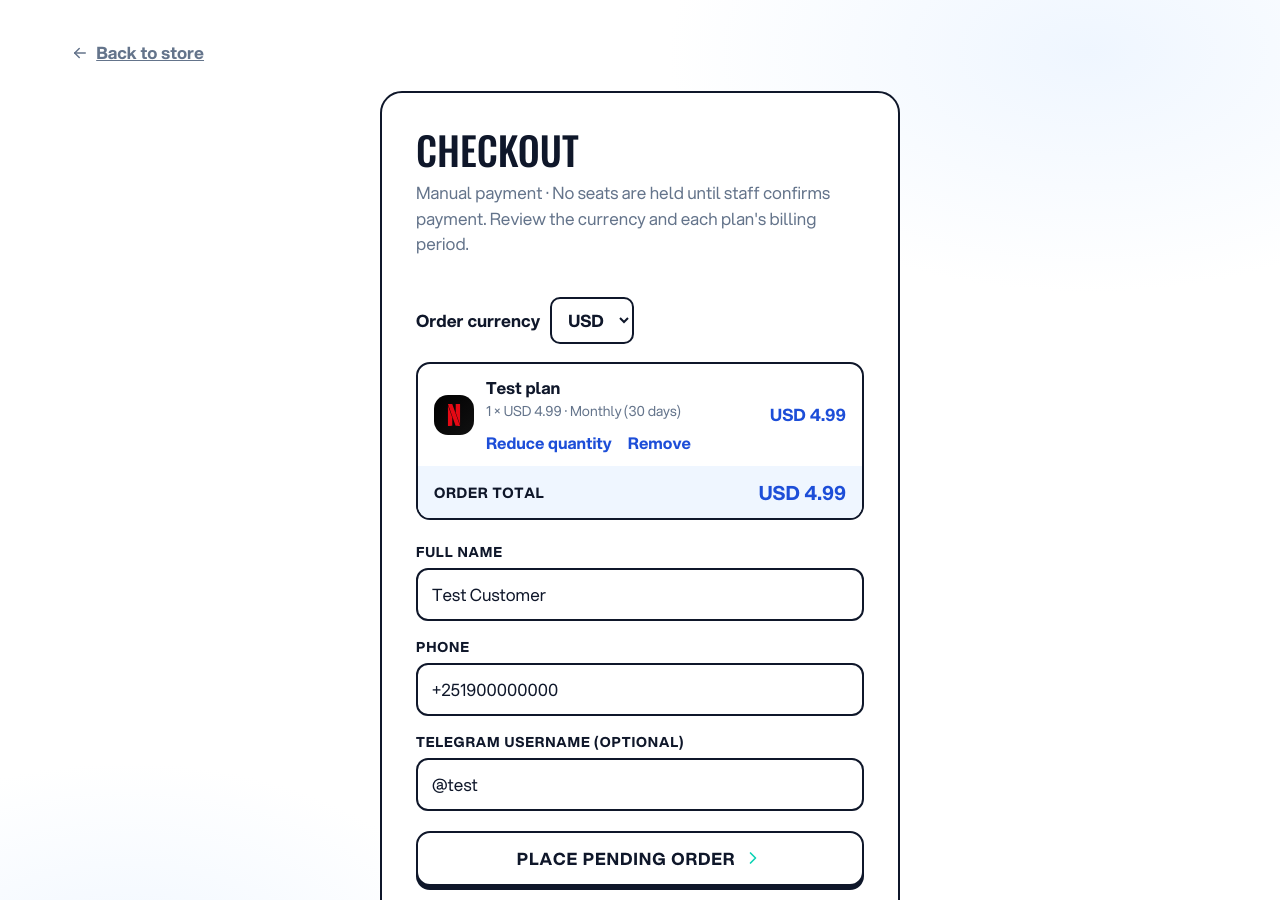
Test: durable, idempotent checkout › never clears the cart or starts a new key when the order read cannot verify success
Click the button "Place pending order".
click(640, 858)  # box [416,830,864,886]
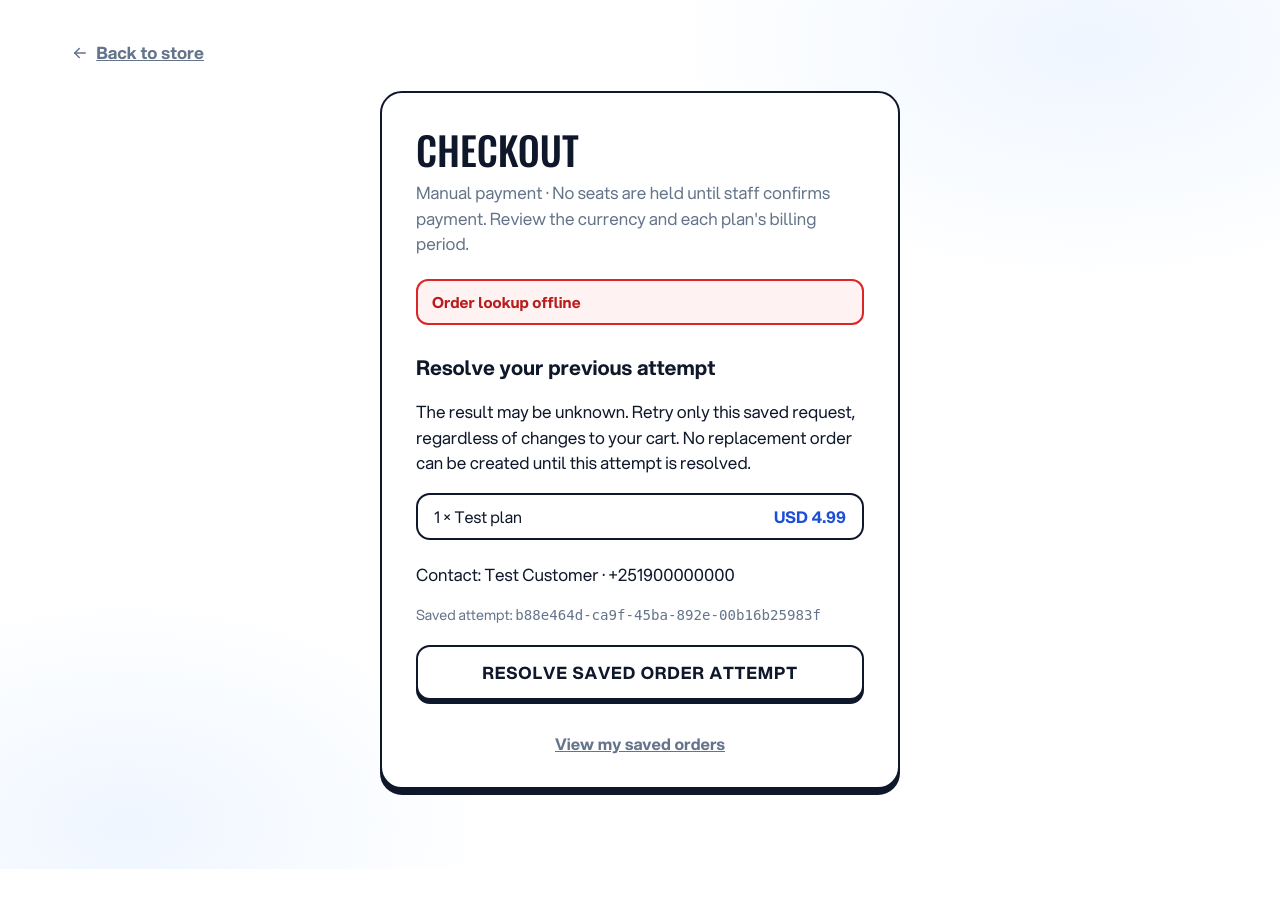
Check: the text "Order lookup offline" is shown, box [416,278,864,324]
